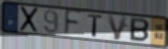9: (43, 9, 60, 34)
B: (129, 17, 150, 44)
F: (63, 8, 85, 37)
T: (87, 13, 105, 38)
V: (106, 14, 129, 41)
X: (19, 6, 40, 34)
